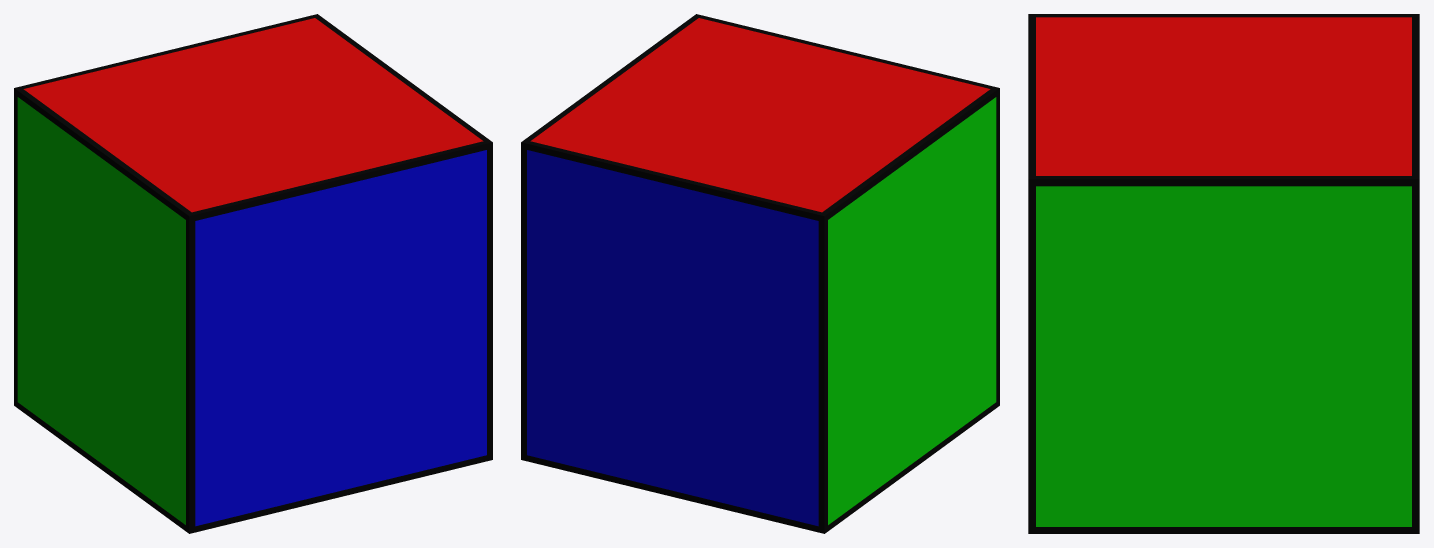
File: testCube_RED_EDGES.glb
3 renders of one model, left to right at view 1: azimuth 30°, elevation 25°; view 2: azimuth 150°, elevation 25°; view 3: azimuth 270°, elevation 25°, orthographic. The views are drawn at different scales.
Visible parts, largest first — view 1: CubeRGB, Outine; view 2: CubeRGB, Outine; view 3: CubeRGB, Outine.
Part boxes in pixels (box(x1,y1,x2,y2)): CubeRGB: box(17, 18, 486, 526); Outine: box(14, 14, 492, 533); CubeRGB: box(527, 18, 996, 526); Outine: box(521, 14, 999, 533); CubeRGB: box(1036, 17, 1411, 526); Outine: box(1028, 14, 1419, 533).
Bounding box in the file's own units: 2.02 × 2.02 × 2.02.
